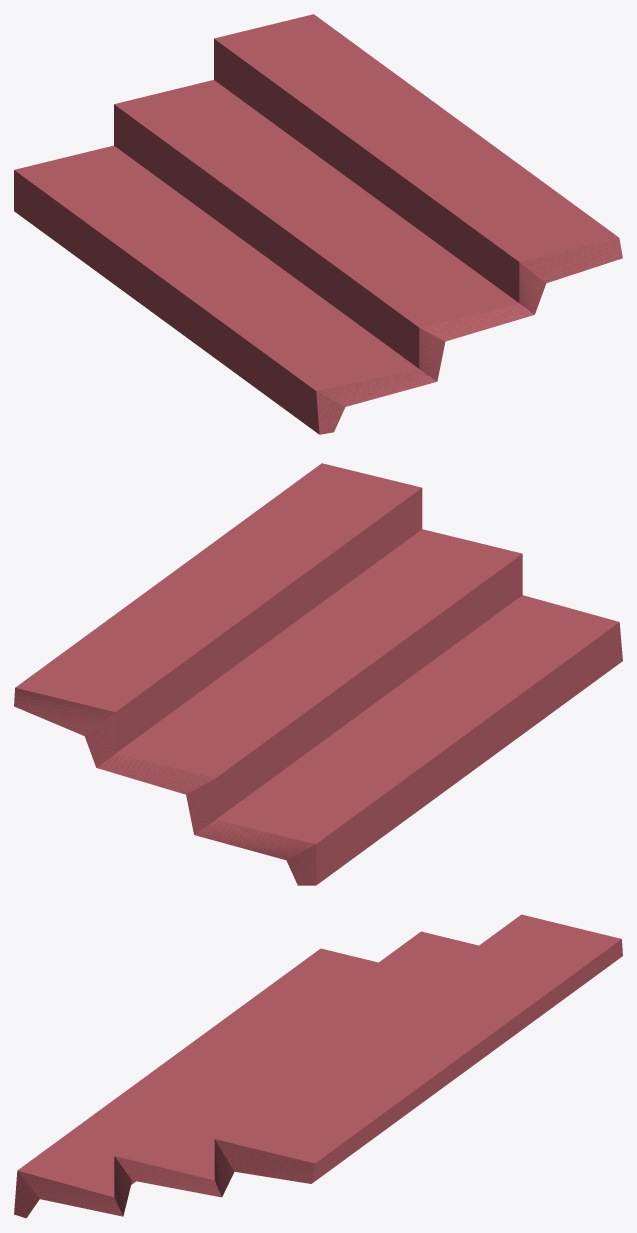
File: kd_stage_135d18_4_71.glb
3 renders of one model, top to bottom at view 1: azimuth 30°, elevation 25°; view 2: azimuth 150°, elevation 25°; view 3: azimuth 330°, elevation 25°, orthographic.
Visible parts, largest first — view 1: kd_stage_135d18_4_71; view 2: kd_stage_135d18_4_71; view 3: kd_stage_135d18_4_71.
Part boxes in pixels (left/top/right/bottom): kd_stage_135d18_4_71: left=14, top=14, right=622, bottom=434; kd_stage_135d18_4_71: left=14, top=463, right=622, bottom=885; kd_stage_135d18_4_71: left=14, top=914, right=622, bottom=1218.
Size of the model in its own units: 1.14 by 0.45 by 2.1.
1 material, 1 textured.
